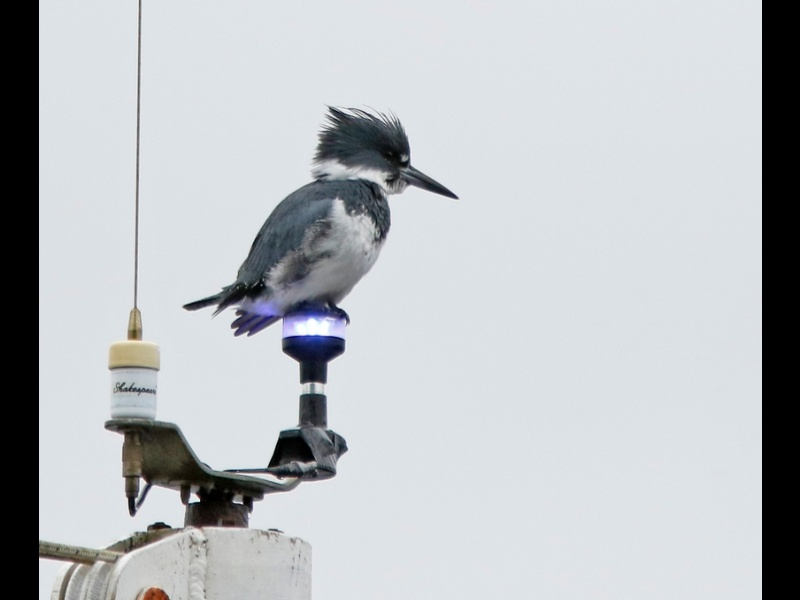kingfisher: (184, 106, 458, 339)
